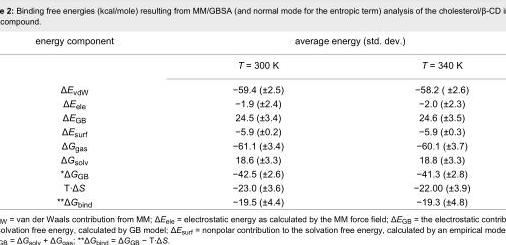table: (34, 34, 469, 208)
table column: (172, 34, 347, 208), (34, 34, 172, 208), (347, 34, 469, 208)
table row: (34, 52, 469, 76), (34, 76, 469, 96), (34, 34, 469, 52), (34, 96, 469, 110), (34, 110, 469, 124), (34, 124, 469, 138), (34, 138, 469, 152), (34, 152, 469, 166), (34, 166, 469, 180), (34, 180, 469, 194), (34, 194, 469, 208)
table spanning cell: (34, 34, 172, 76), (172, 34, 469, 52)
